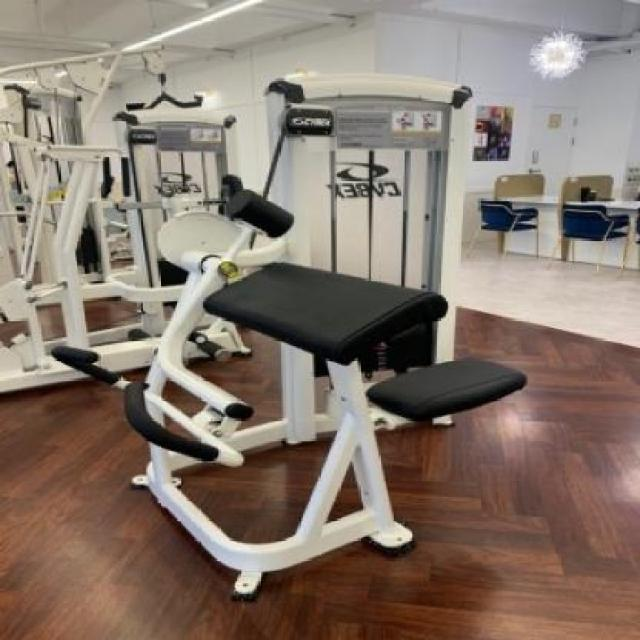arm curl machine: (50, 258, 528, 600)
